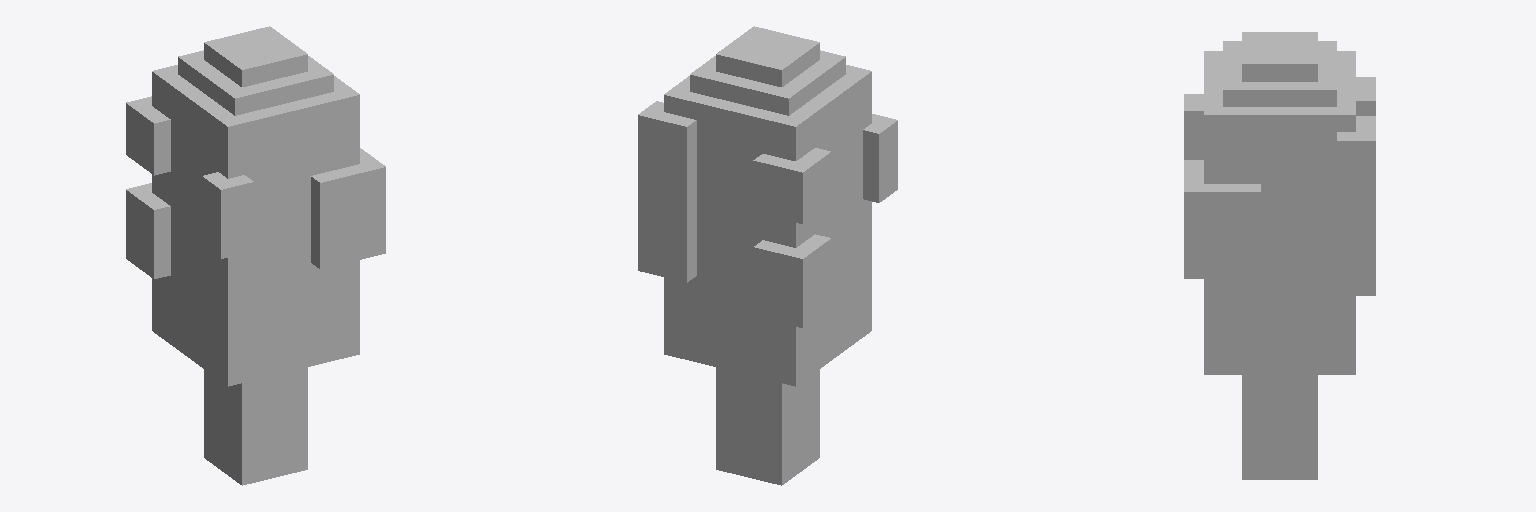
Rendered from tree_2.obj.
3 views of the same model, side by side, from view 1: azimuth 30°, elevation 25°; view 2: azimuth 150°, elevation 25°; view 3: azimuth 270°, elevation 25° (orthographic).
Parts seen in each view (by area): view 1: object 1; view 2: object 1; view 3: object 1.
Part boxes in pixels (left/top/right/bottom): object 1: left=126, top=26, right=385, bottom=485; object 1: left=638, top=26, right=897, bottom=485; object 1: left=1184, top=32, right=1375, bottom=479.
Size of the model in its own units: 1 by 2.4 by 1.